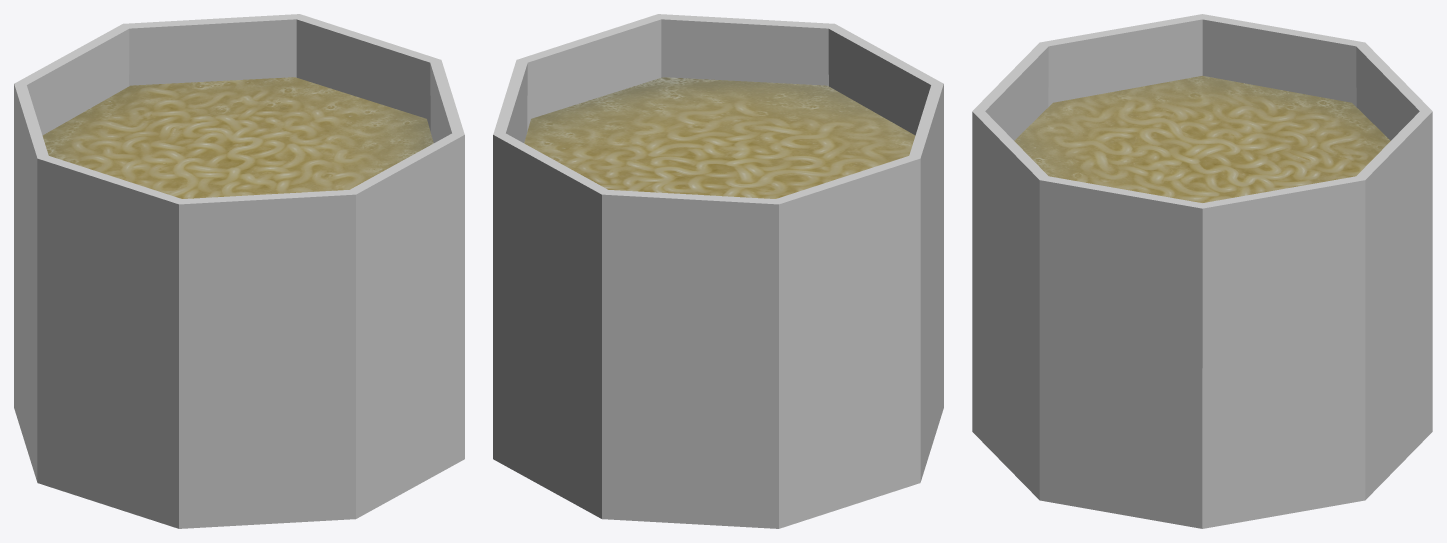
Rendered from panci+mie rebus.fbx.
The picture shows the model from 3 angles, left to right: view 1: azimuth 30°, elevation 25°; view 2: azimuth 150°, elevation 25°; view 3: azimuth 270°, elevation 25°; orthographic projection.
Parts seen in each view (by area): view 1: Cylinder.001, Plane; view 2: Cylinder.001, Plane; view 3: Cylinder.001, Plane.
Boxes of the visible parts, box(x1,y1,x2,y2) form: Cylinder.001: box(14, 14, 464, 528); Plane: box(42, 77, 433, 198); Cylinder.001: box(493, 14, 943, 528); Plane: box(524, 77, 915, 198); Cylinder.001: box(972, 14, 1432, 528); Plane: box(1014, 75, 1390, 202).
Size of the model in its own units: 228 by 175 by 228.
